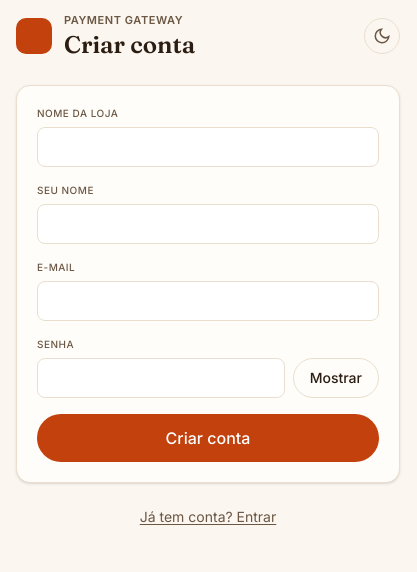
Scenario: SignupPage › putsATakenEmailOnTheEmailField
In the field labelled "Nome da loja": x=208, y=146 [37,126,379,166], type "Loja da Ana"
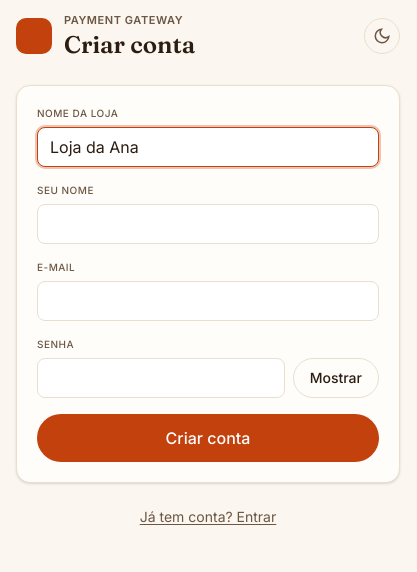
In the field labelled "Seu nome": x=208, y=224 [37,204,379,244], type "Ana"
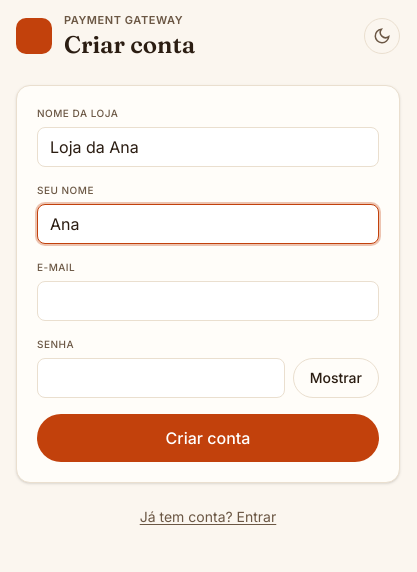
In the field labelled "E-mail": x=208, y=300 [37,280,379,320], type "ana@loja.com"
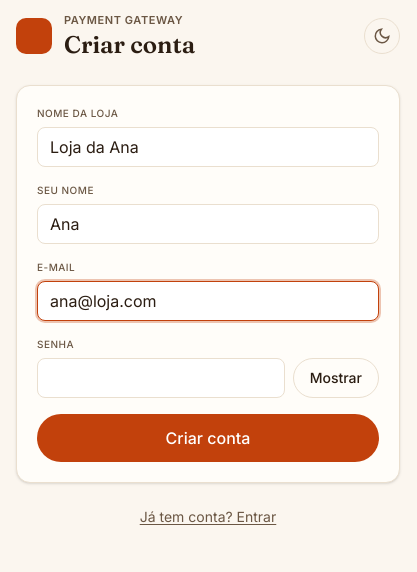
In the password field labelled "Senha": x=161, y=378 [37,358,285,398], type "senha-longa-123"
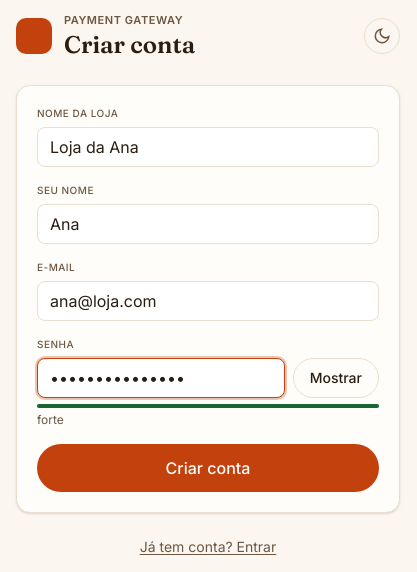
Click the button "Criar conta": x=208, y=468 [37,444,379,492]
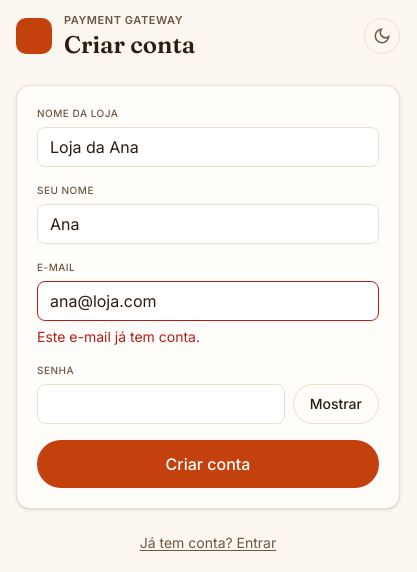
Expected: the text "Este e-mail já tem conta." is shown, [37,328,200,344]
Expected: the password field labelled "Senha" is empty, [37,384,285,424]
